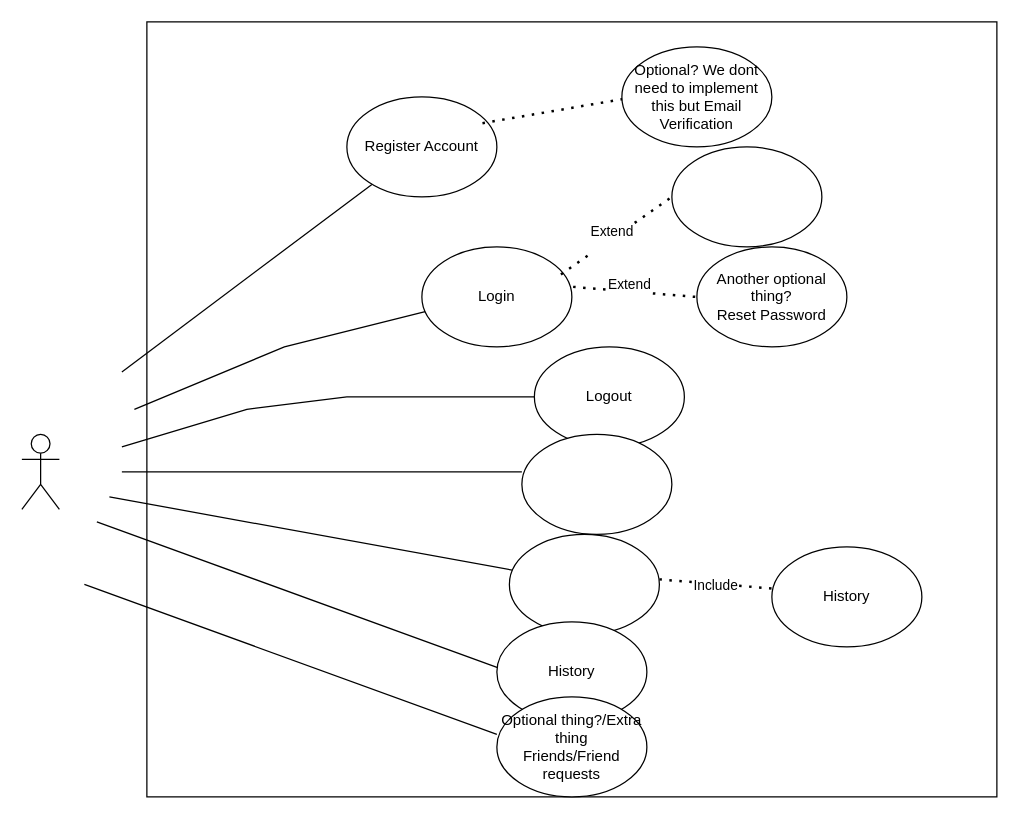
This 1019x819 diagram has some shape labels left out. Each missing label, with the centre of its shape:
"Update Profile" belongs at [596,483].
"User" belongs at [40,471].
"Verify Credentials" belongs at [746,196].
"View Public Profile" belongs at [583,583].
